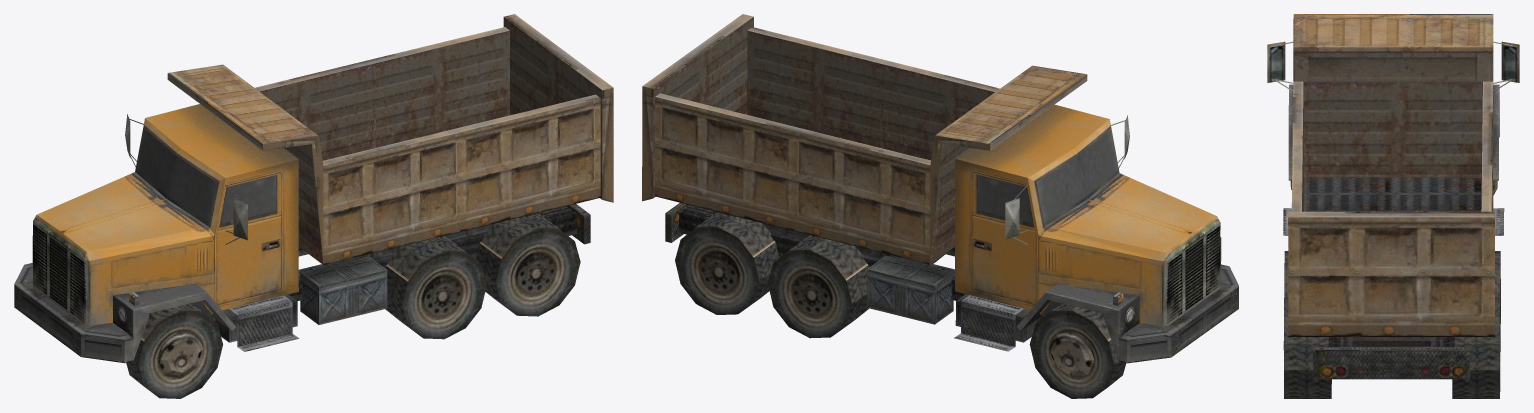
Rendered from small turck.fbx.
The picture shows the model from 3 angles, left to right: view 1: azimuth 30°, elevation 25°; view 2: azimuth 150°, elevation 25°; view 3: azimuth 270°, elevation 25°; orthographic projection. The views are drawn at different scales.
Parts seen in each view (by area): view 1: small_turck; view 2: small_turck; view 3: small_turck.
Boxes of the visible parts, <box> form: small_turck: <box>14,14,613,398</box>; small_turck: <box>642,14,1238,398</box>; small_turck: <box>1267,14,1519,398</box>.
Bounding box in the file's own units: 534 × 233 × 218.
